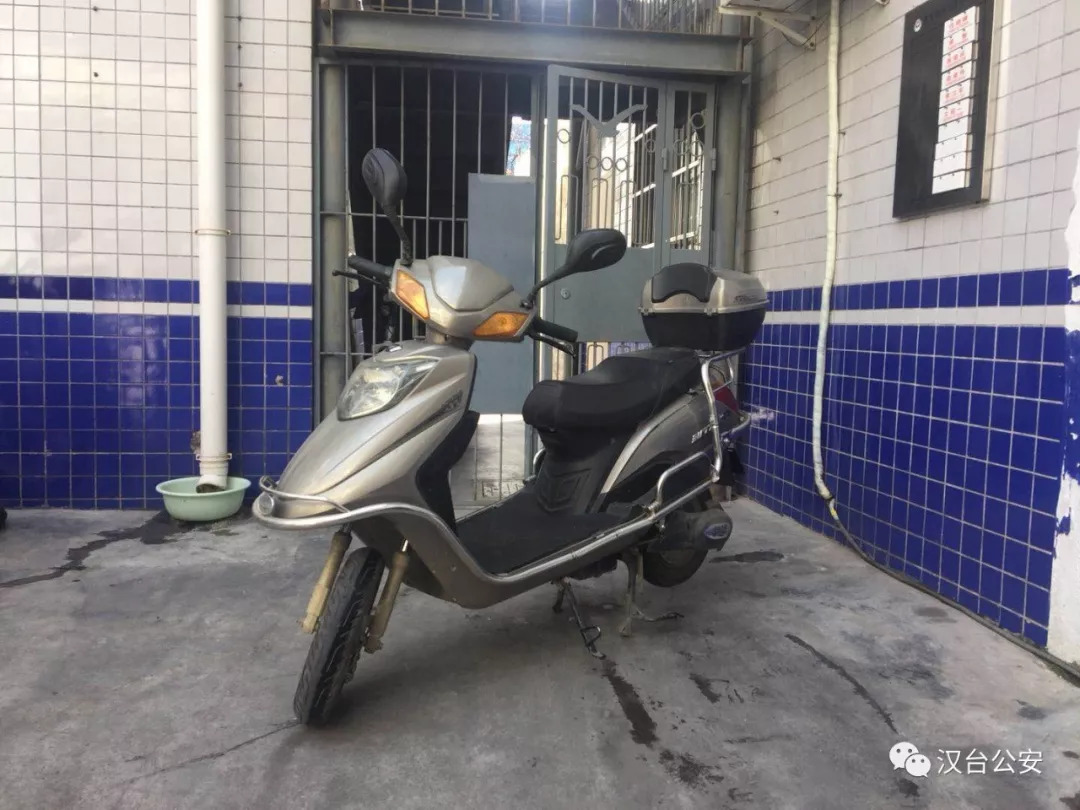电动车: (232, 137, 805, 755)
